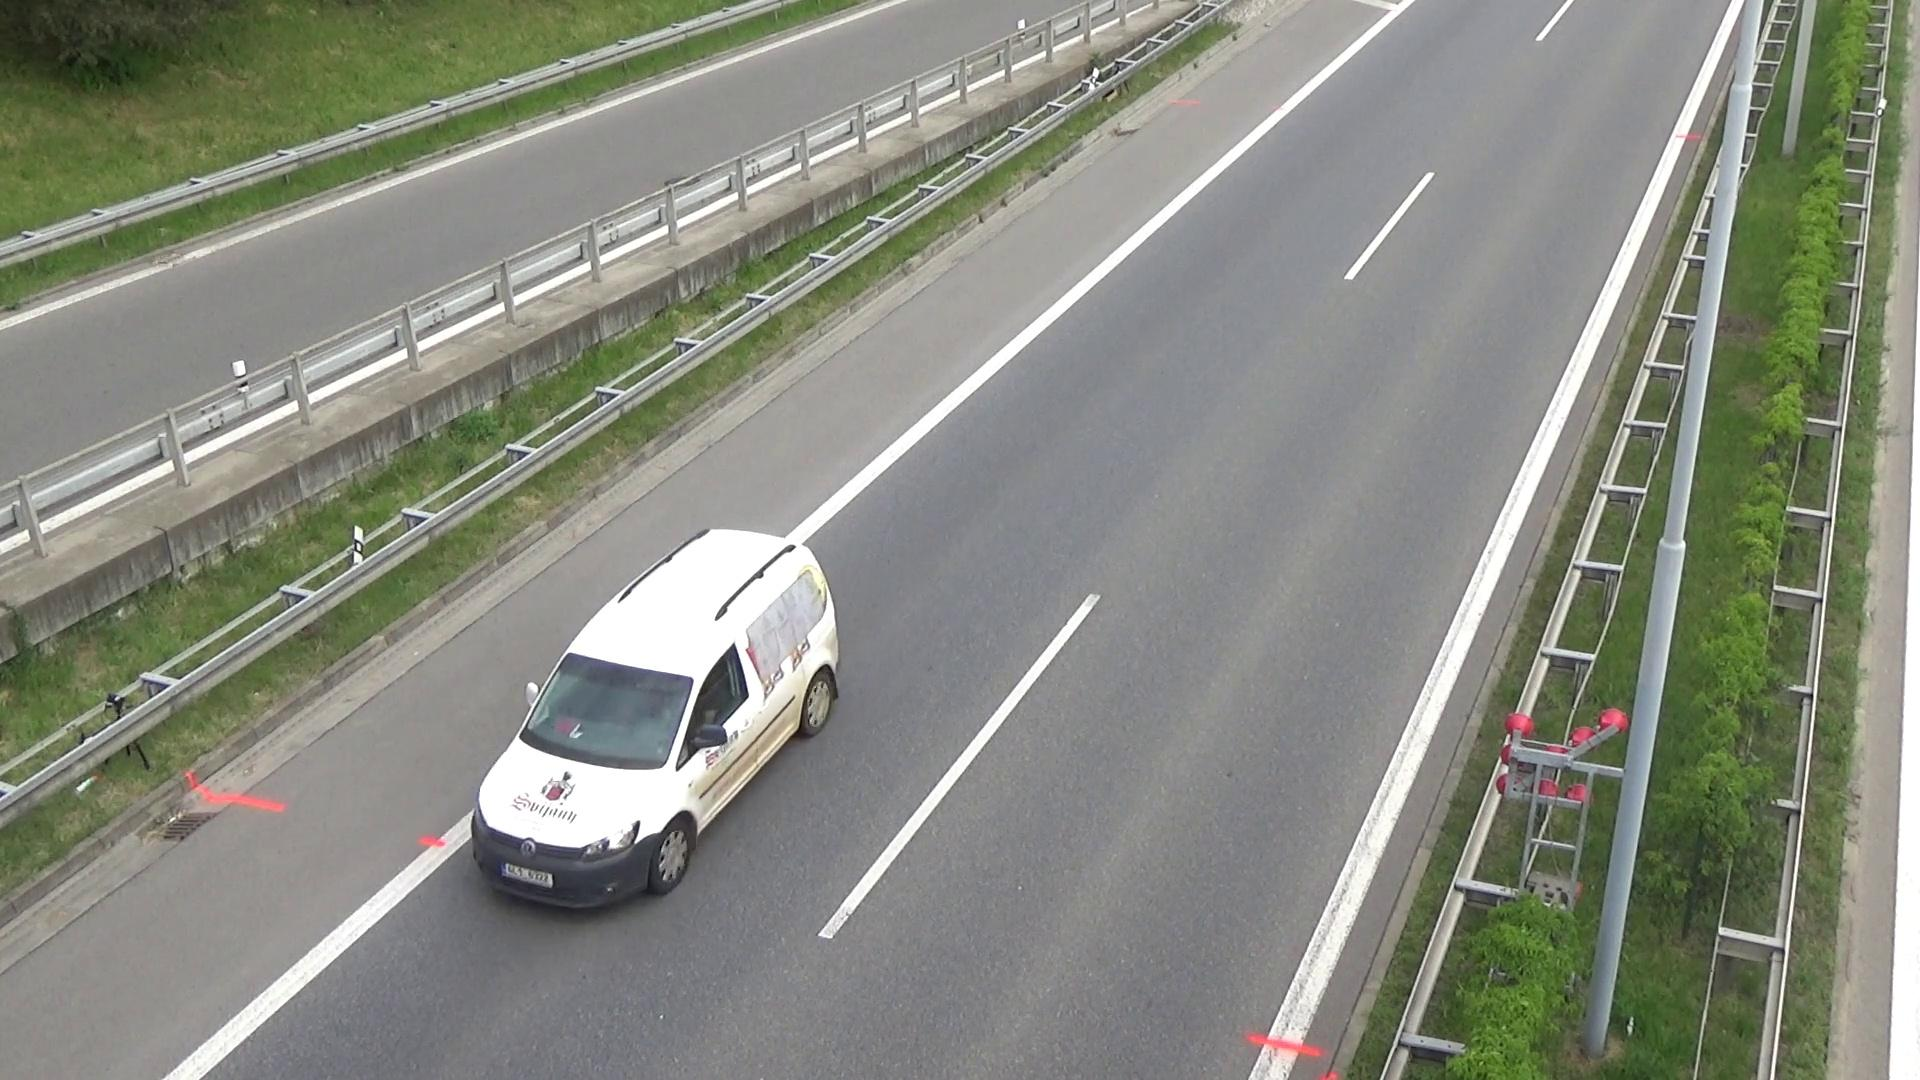Van: (458, 571, 895, 928)
